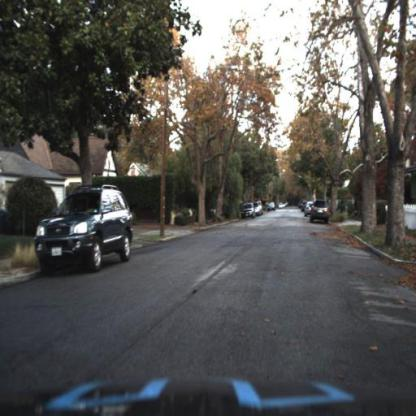car: (31, 178, 133, 278), (309, 199, 329, 224), (240, 199, 258, 221), (303, 199, 318, 217), (266, 200, 280, 218), (254, 199, 263, 218)
